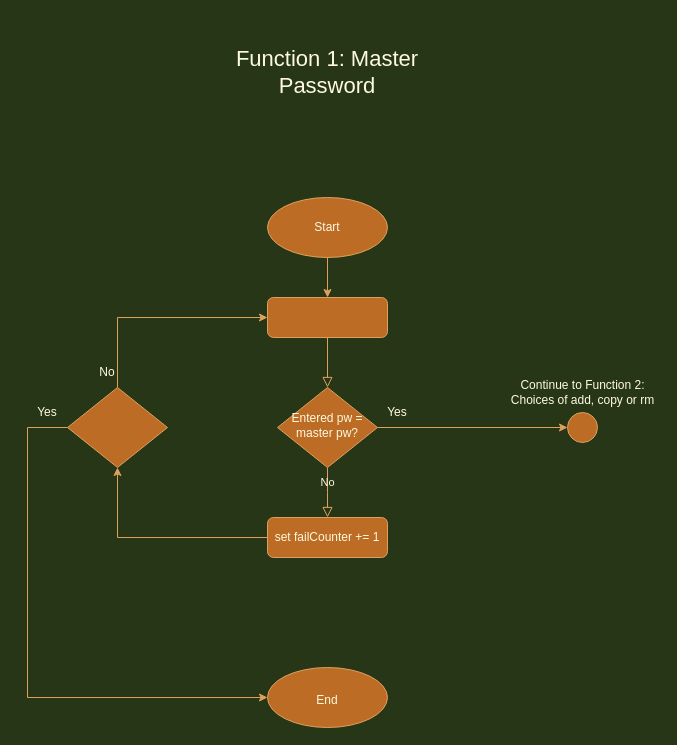
Some shapes in this 677 by 745 pixel diagram are drawn without their labels. The shapes that lost their labels are listed below. From the top down, each one's centre as x and y in pixels, then its label:
(x=327, y=317): Prompt user for master password
(x=117, y=427): failCounter = 3?
